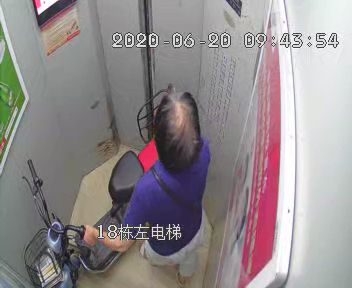Electric-bicycle: (21, 139, 155, 286)
